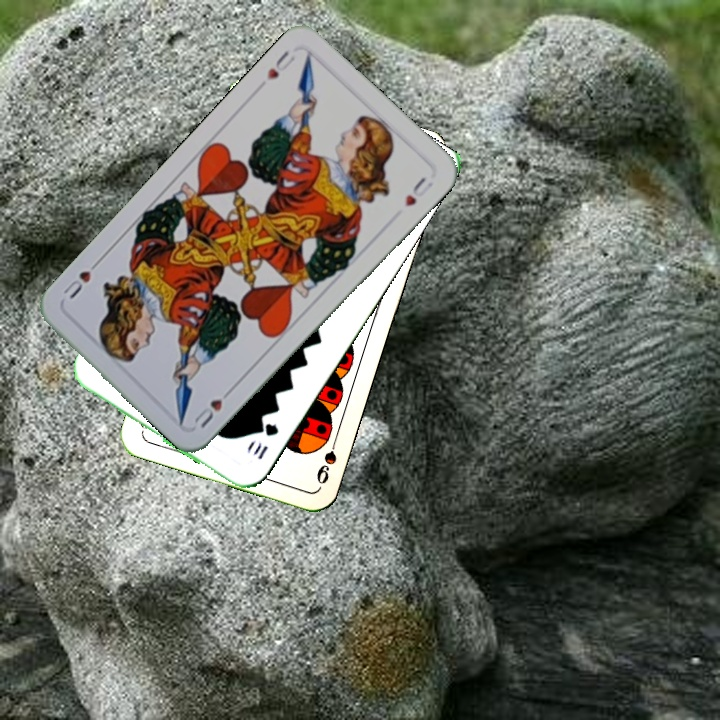G10: (248, 419, 281, 463)
HU: (190, 383, 237, 431), (262, 46, 298, 83)
S9: (312, 431, 341, 487)
